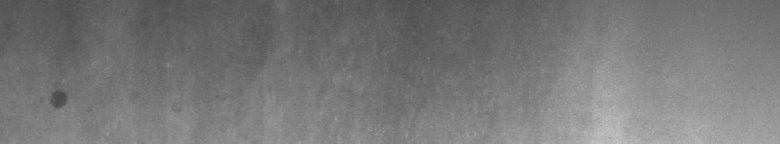fi: (40, 84, 72, 116)
